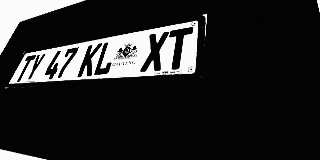4: (42, 49, 66, 80)
7: (54, 47, 79, 79)
K: (76, 43, 103, 77)
L: (92, 40, 119, 76)
T: (163, 27, 193, 70), (14, 55, 36, 82)
X: (140, 31, 169, 72)
Y: (23, 53, 46, 81)
